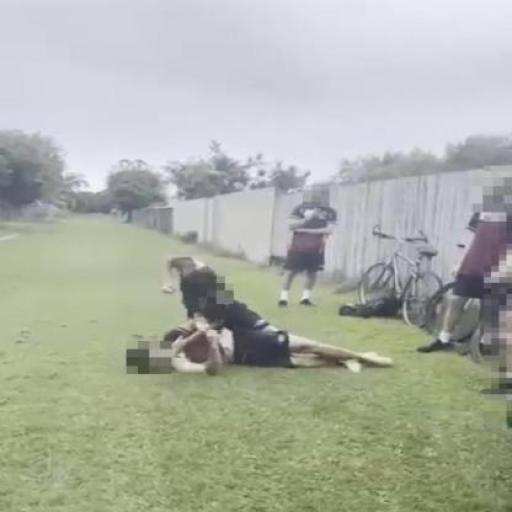Fighting: (122, 180, 512, 377)
